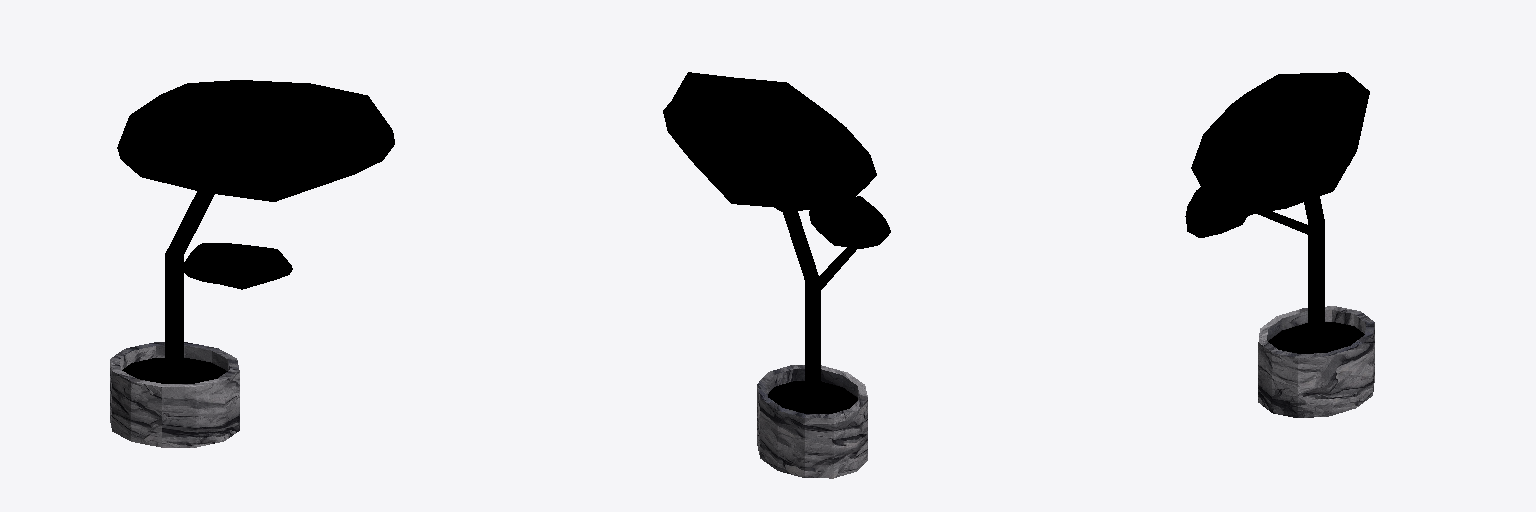
The picture shows the model from 3 angles: view 1: azimuth 30°, elevation 25°; view 2: azimuth 150°, elevation 25°; view 3: azimuth 270°, elevation 25°; orthographic projection.
Parts seen in each view (by area): view 1: Planta6:Mesh; view 2: Planta6:Mesh; view 3: Planta6:Mesh.
Boxes of the visible parts, <box> form: Planta6:Mesh: <box>110,80,394,447</box>; Planta6:Mesh: <box>663,72,890,478</box>; Planta6:Mesh: <box>1185,72,1374,417</box>.
Size of the model in its own units: 2.17 by 2.96 by 1.52.
4 materials, 1 textured.